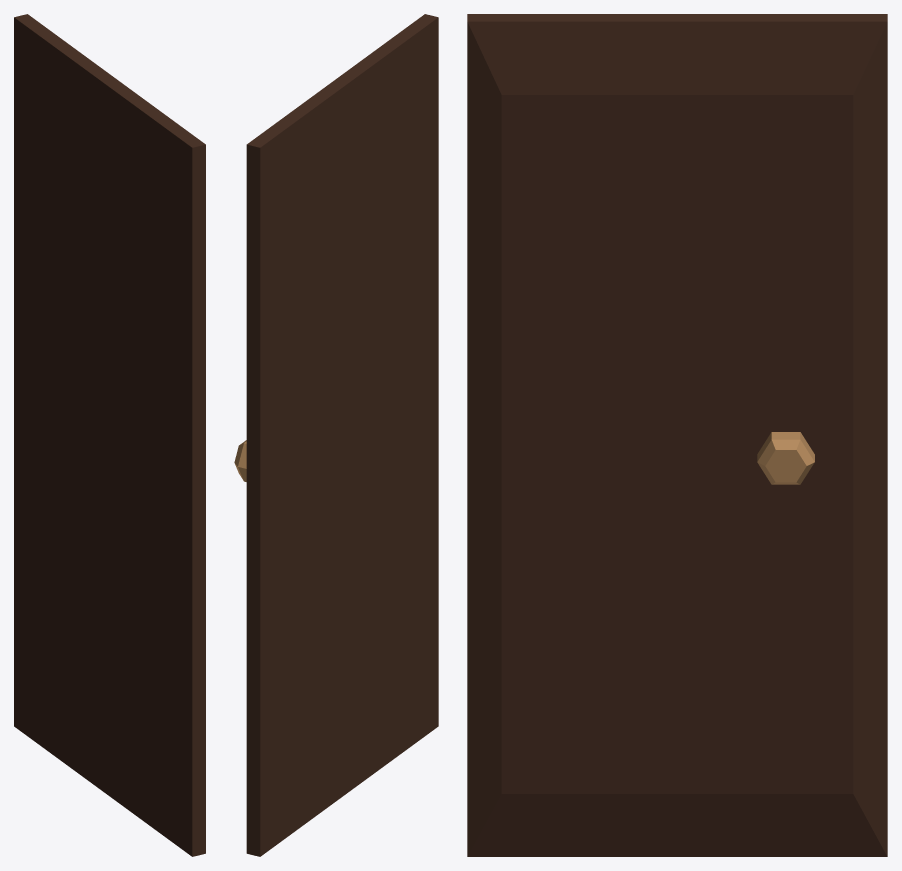
Rendered from door.fbx.
The picture shows the model from 3 angles, left to right: view 1: azimuth 30°, elevation 25°; view 2: azimuth 150°, elevation 25°; view 3: azimuth 270°, elevation 25°; orthographic projection. The views are drawn at different scales.
Parts seen in each view (by area): view 1: Circle; view 2: Circle; view 3: Circle.
Boxes of the visible parts, bbox=[...] form: Circle: bbox=[14, 14, 205, 856]; Circle: bbox=[234, 14, 438, 856]; Circle: bbox=[467, 14, 887, 856].
Size of the model in its own units: 38.92 by 439 by 200.
